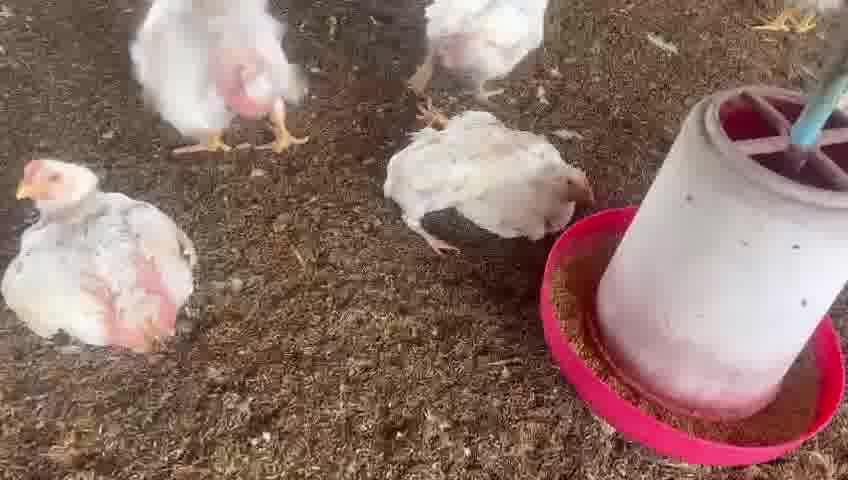AbNormal: (390, 103, 592, 256)
Normal: (5, 154, 200, 356), (126, 0, 323, 171), (402, 0, 552, 112)
